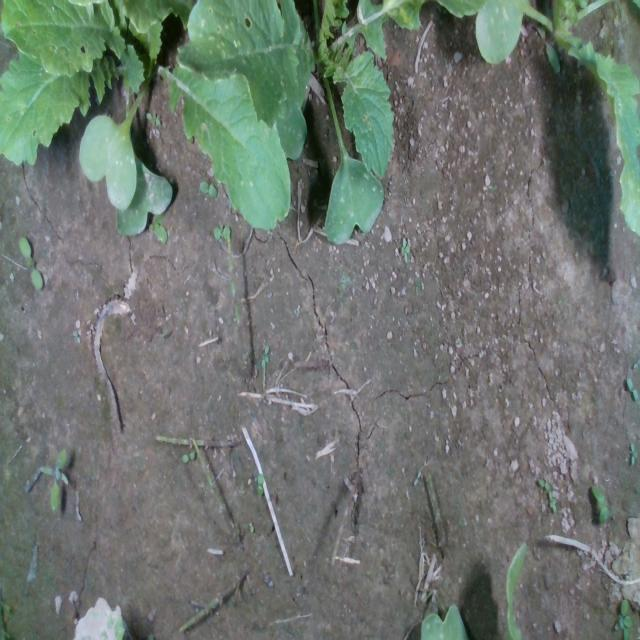weed: (38, 448, 68, 512), (17, 234, 43, 292), (589, 482, 608, 530), (625, 375, 639, 402), (199, 180, 217, 198), (145, 109, 161, 128), (400, 235, 410, 263), (258, 343, 270, 366), (627, 440, 637, 467), (256, 471, 264, 497)
